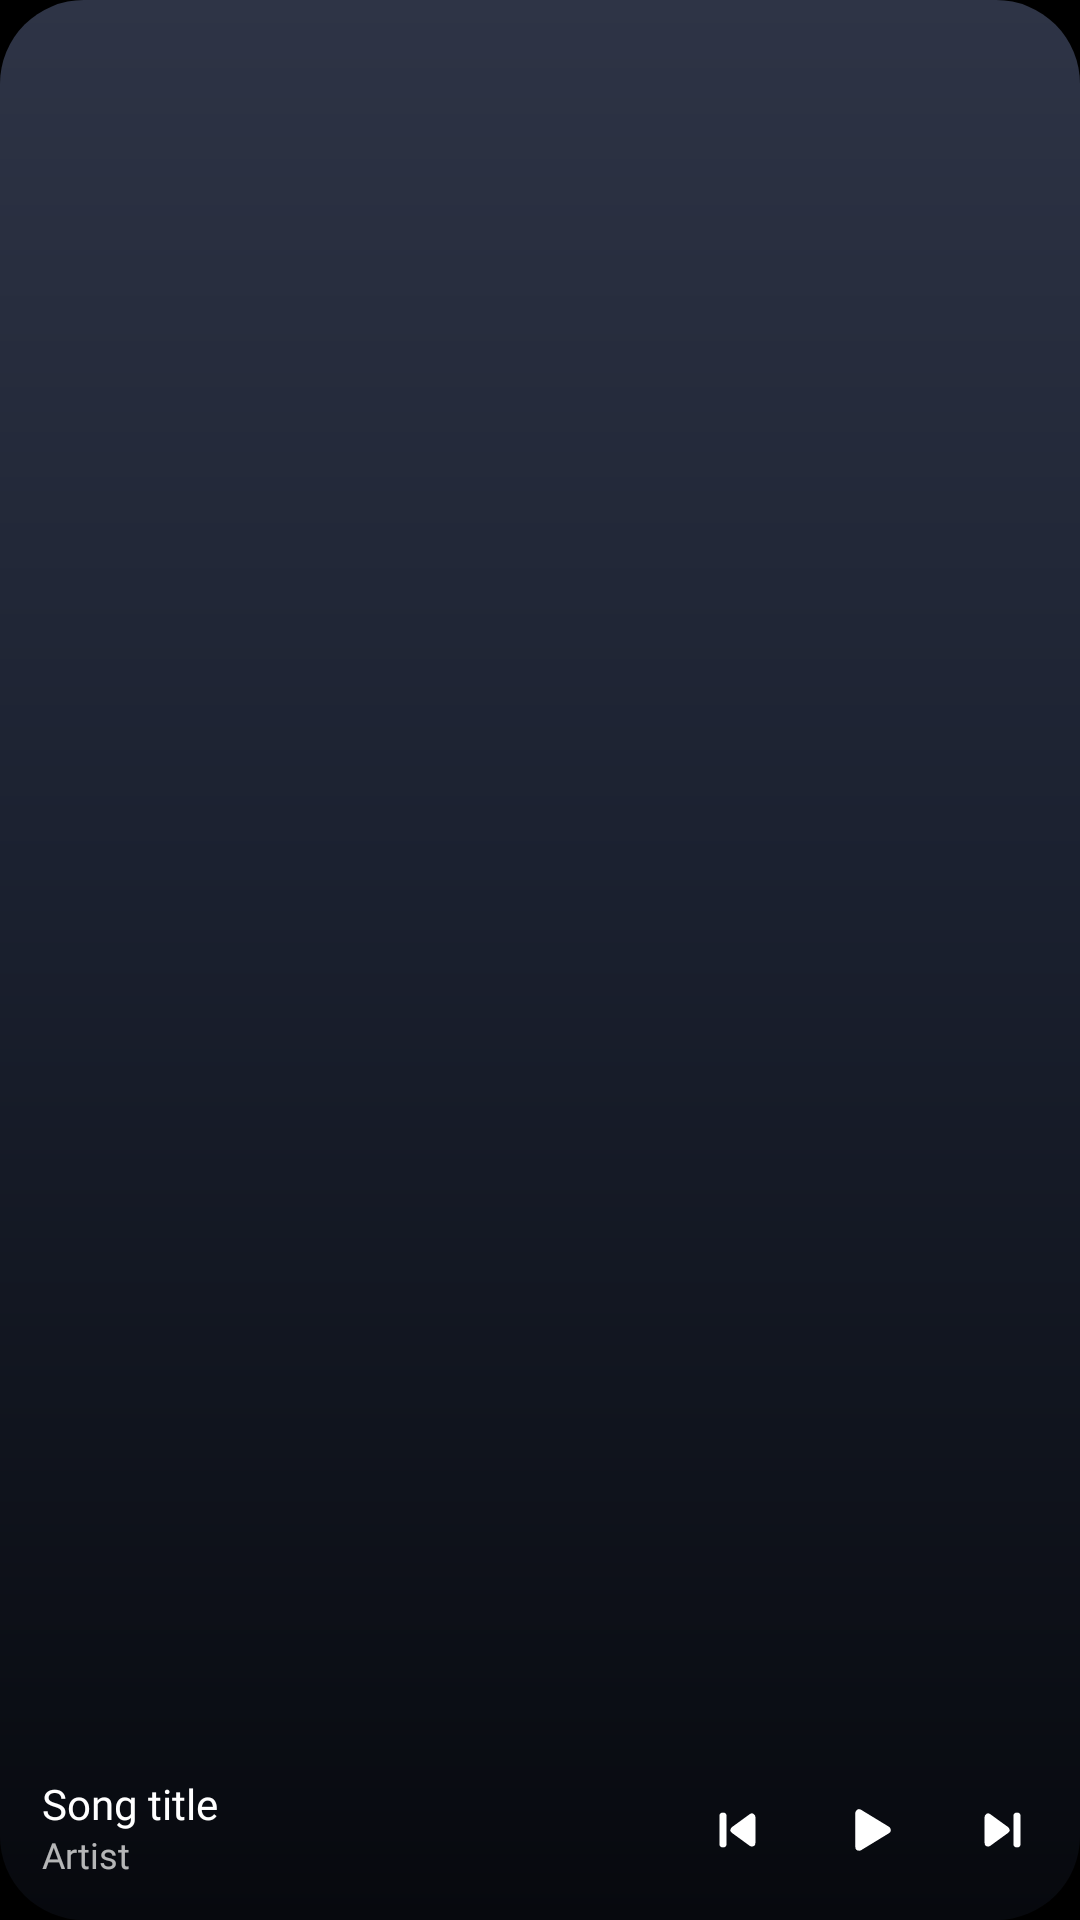

Where icons sit on this 1080*1920 app screen, as (x1, y1, x2, y2):
Next: (984, 1812, 1021, 1848)
Play: (855, 1809, 891, 1851)
Previous: (719, 1812, 756, 1848)
